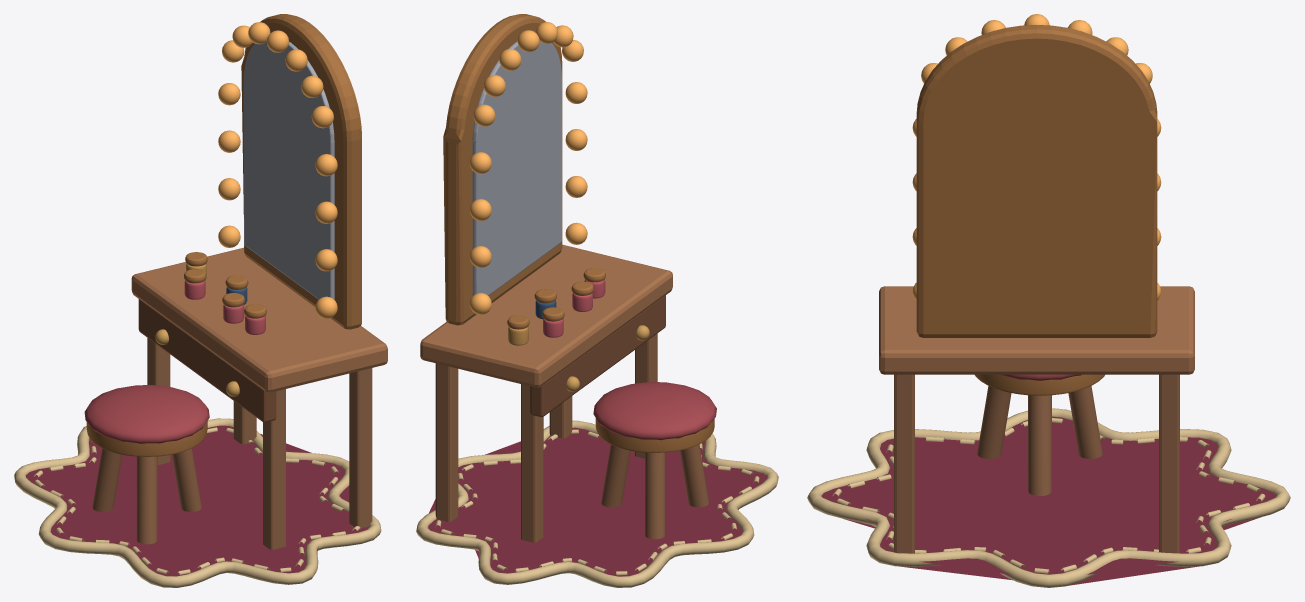
The model's file is SM_Hub_DressingCorner.fbx.
3 renders of one model, left to right at view 1: azimuth 30°, elevation 25°; view 2: azimuth 150°, elevation 25°; view 3: azimuth 270°, elevation 25°, orthographic. The views are drawn at different scales.
Parts seen in each view (by area): view 1: Lace-edged vanity mat.001_Baked; view 2: Lace-edged vanity mat.001_Baked; view 3: Lace-edged vanity mat.001_Baked.
Boxes of the visible parts, x1,y1,x2,y2 form: Lace-edged vanity mat.001_Baked: [14, 14, 387, 587]; Lace-edged vanity mat.001_Baked: [416, 14, 778, 587]; Lace-edged vanity mat.001_Baked: [807, 14, 1290, 587].
Size of the model in its own units: 136 by 161 by 197.
